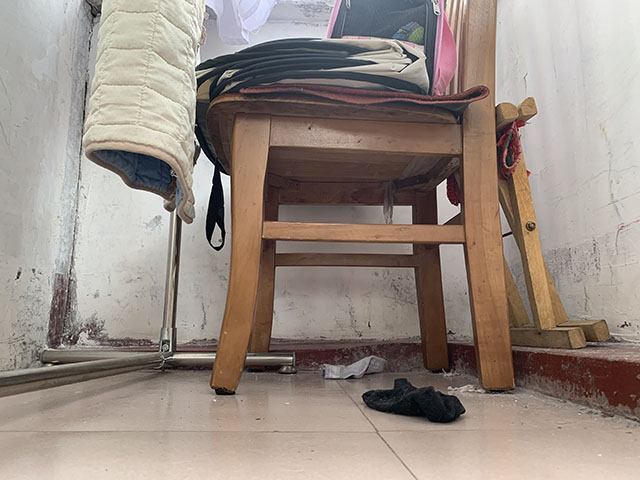socks: (361, 377, 467, 426), (319, 355, 388, 380)
stool: (204, 1, 516, 396), (495, 96, 613, 350)
